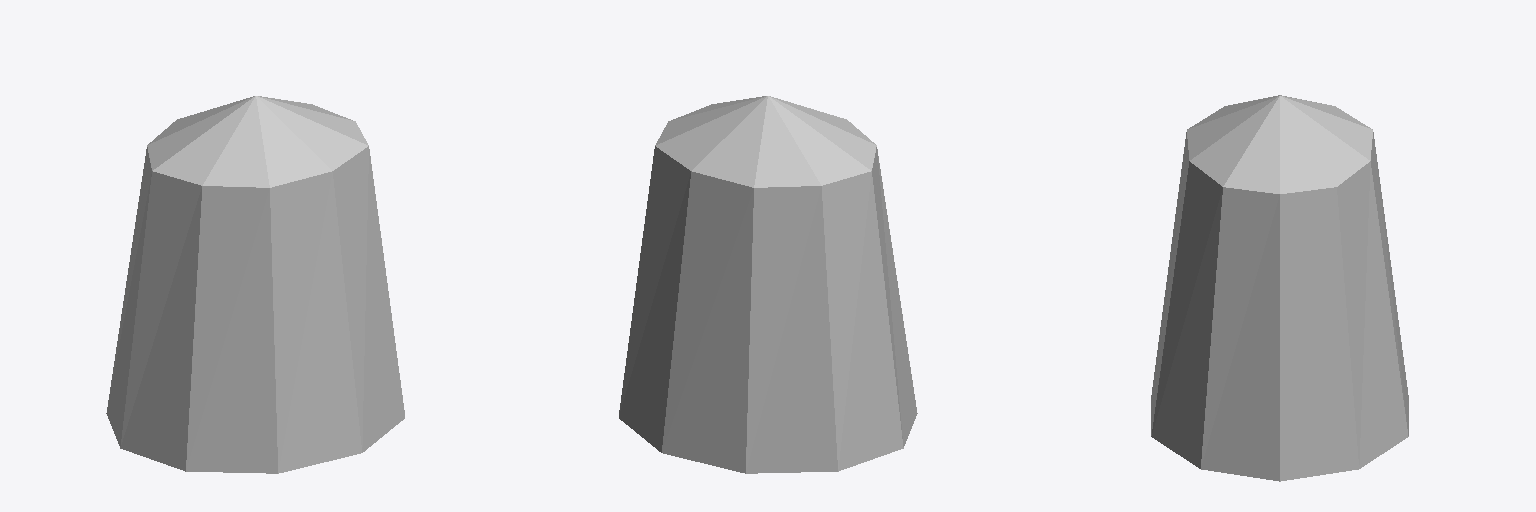
The model's file is buoyGlass.obj.
3 renders of one model, left to right at view 1: azimuth 30°, elevation 25°; view 2: azimuth 150°, elevation 25°; view 3: azimuth 270°, elevation 25°, orthographic.
Parts seen in each view (by area): view 1: Object004_Object004Mesh.001; view 2: Object004_Object004Mesh.001; view 3: Object004_Object004Mesh.001.
Part boxes in pixels (x1,y1,x2,y2): Object004_Object004Mesh.001: (106, 96, 404, 473); Object004_Object004Mesh.001: (619, 96, 917, 473); Object004_Object004Mesh.001: (1151, 95, 1408, 481).
Bounding box in the file's own units: 0.3546 × 0.4008 × 0.2912.